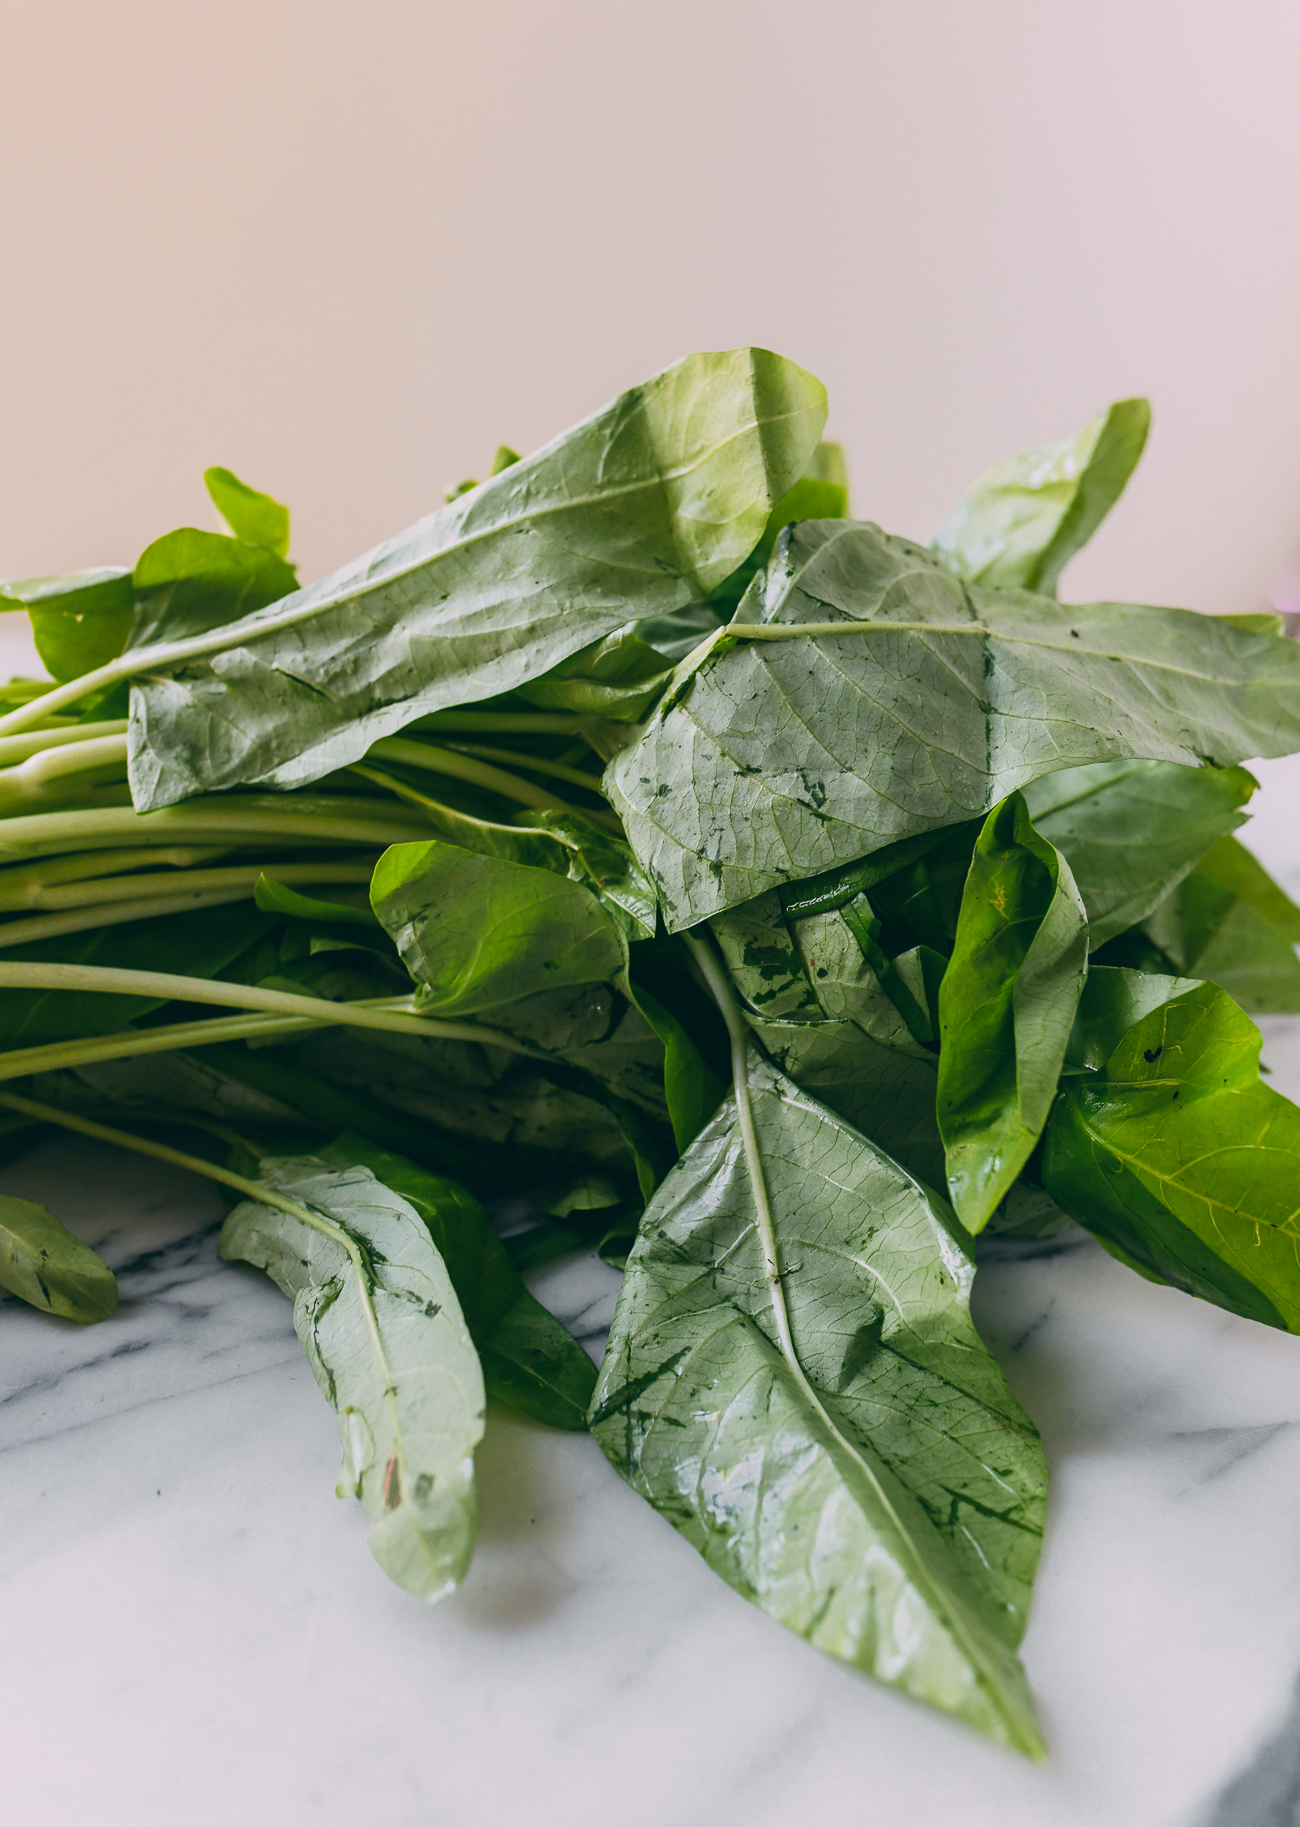Kangkung: (172, 252, 1211, 1605)
